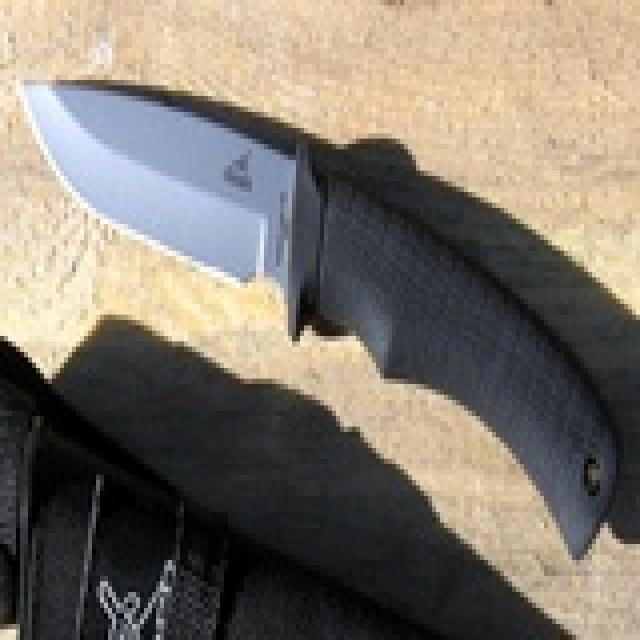Knife: (12, 66, 618, 554)
